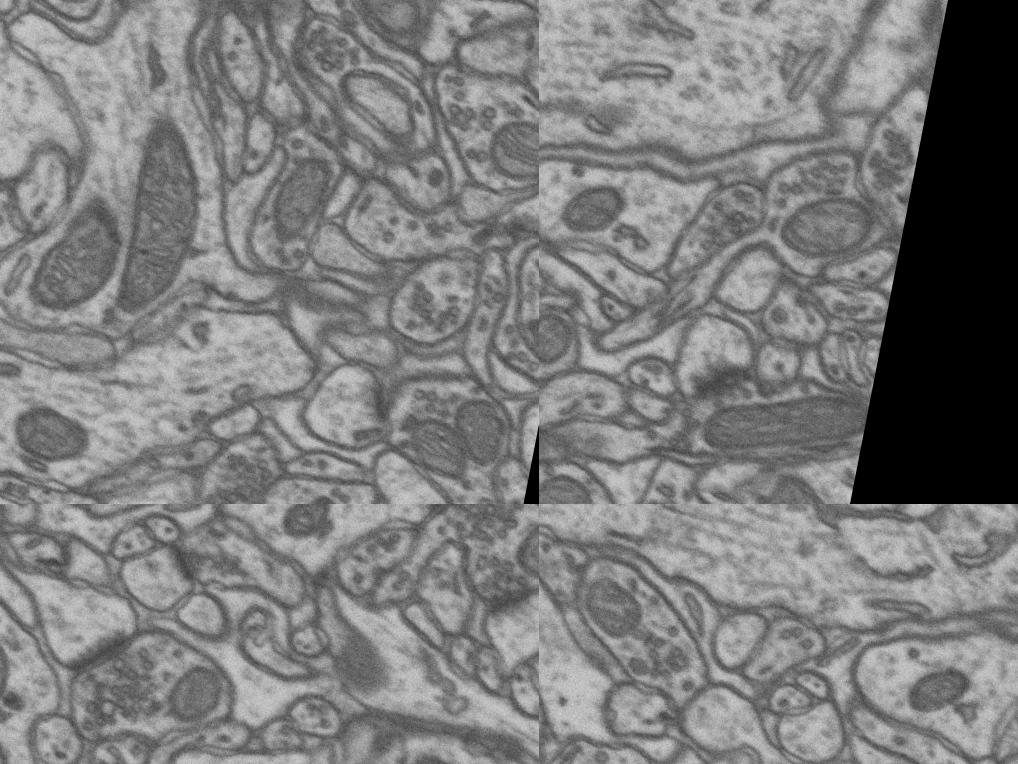mitochondria: (106, 108, 218, 325), (693, 360, 871, 490), (22, 186, 129, 326), (777, 181, 902, 285), (544, 549, 642, 642), (261, 148, 342, 251), (136, 669, 220, 759), (566, 166, 657, 244), (727, 449, 853, 504), (3, 398, 94, 472), (356, 717, 496, 764), (396, 410, 476, 484), (445, 394, 515, 470), (919, 644, 989, 714), (477, 112, 539, 191), (338, 0, 436, 45), (539, 310, 577, 398), (539, 466, 606, 504), (278, 504, 348, 538), (618, 480, 709, 504)
